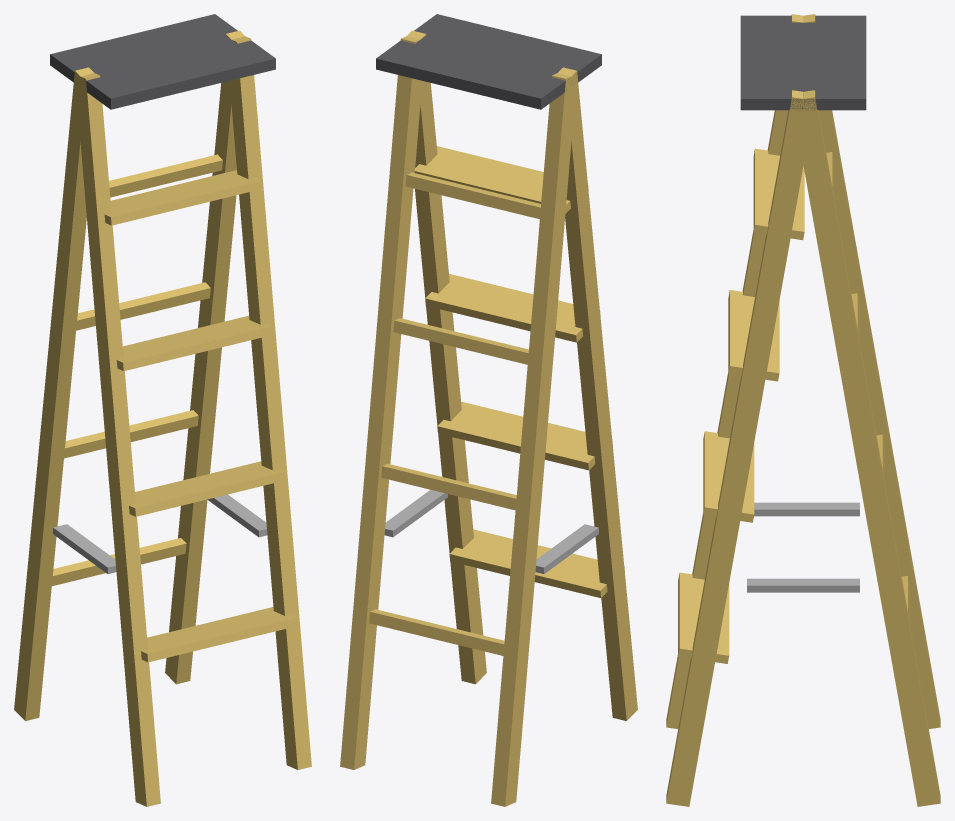
The model's file is ladder.glb.
The picture shows the model from 3 angles, left to right: view 1: azimuth 30°, elevation 25°; view 2: azimuth 150°, elevation 25°; view 3: azimuth 270°, elevation 25°; orthographic projection. The views are drawn at different scales.
Parts seen in each view (by area): view 1: NC_ladder; view 2: NC_ladder; view 3: NC_ladder.
Boxes of the visible parts, <box> form: NC_ladder: <box>14,14,311,806</box>; NC_ladder: <box>340,14,637,806</box>; NC_ladder: <box>666,14,940,806</box>.
Size of the model in its own units: 0.47 by 1.87 by 0.6553.
